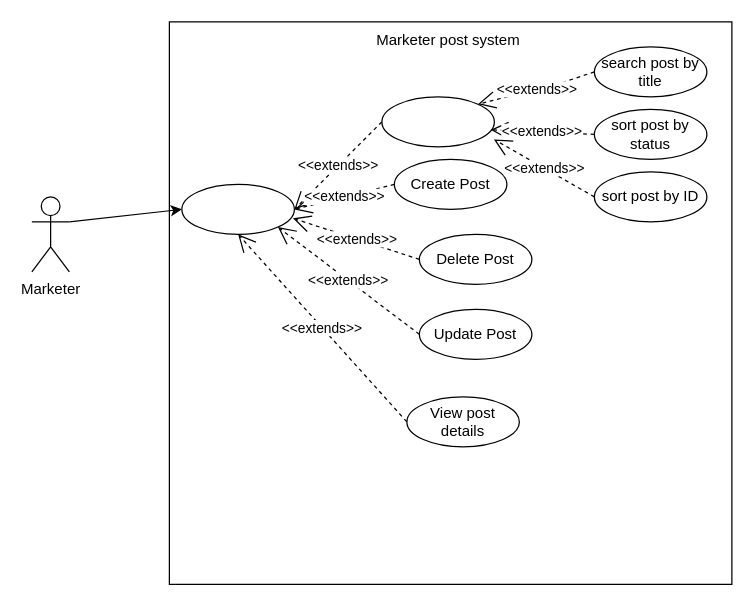
Some shapes in this 754 by 606 pixel diagram are drawn without their labels. Each missing label, with the centre of its shape:
"get list of posts" belongs at point (437, 121).
"Post list" belongs at point (237, 208).
